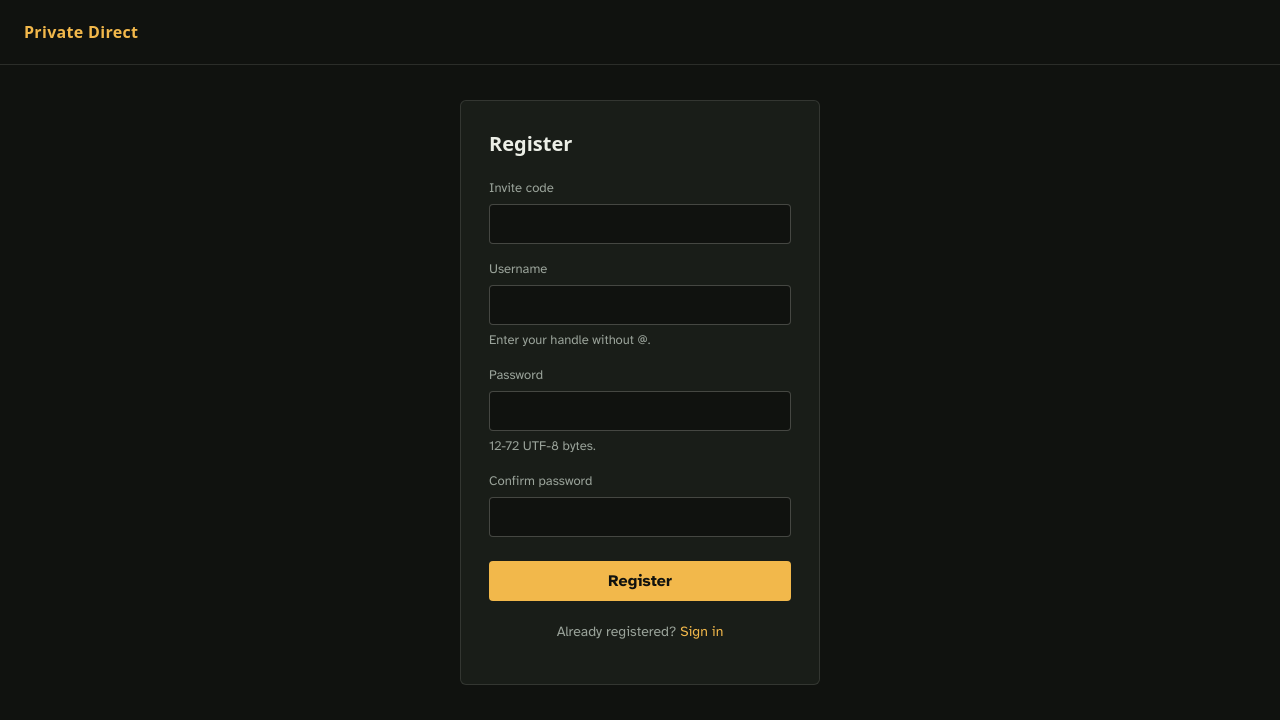
Test: registration flow › blocks invalid local input with field-specific guidance
Type "invite-one" into the field labelled "Invite code" at [640, 224], box [489,204,791,244]
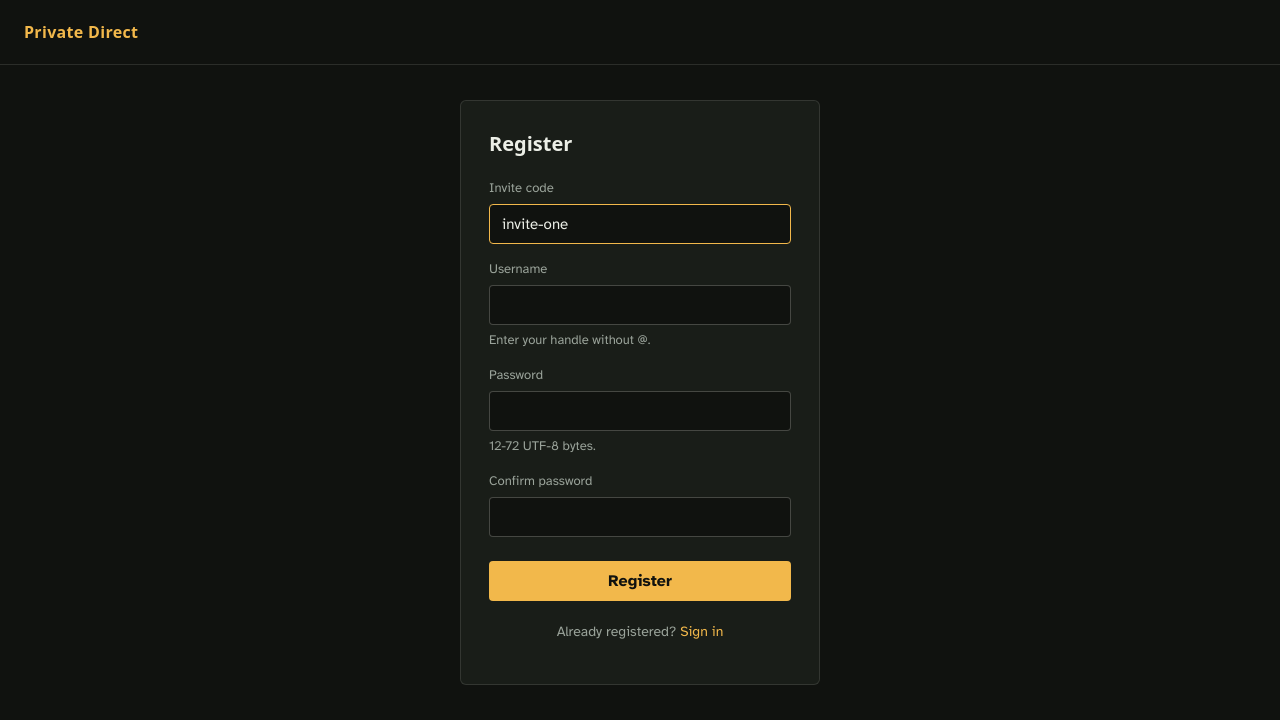
Type "@Al" into the field labelled "Username" at [640, 305], box [489,285,791,325]
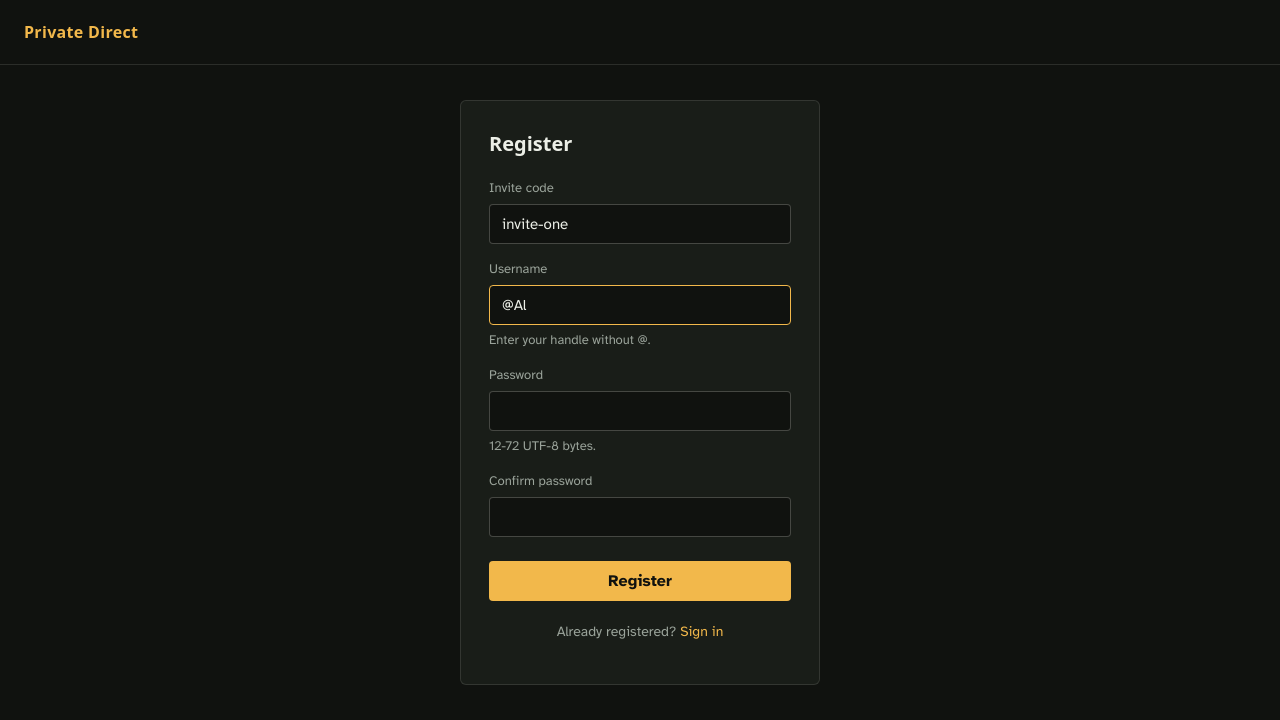
Type "short" into the password field labelled "Password" at [640, 411], box [489,391,791,431]
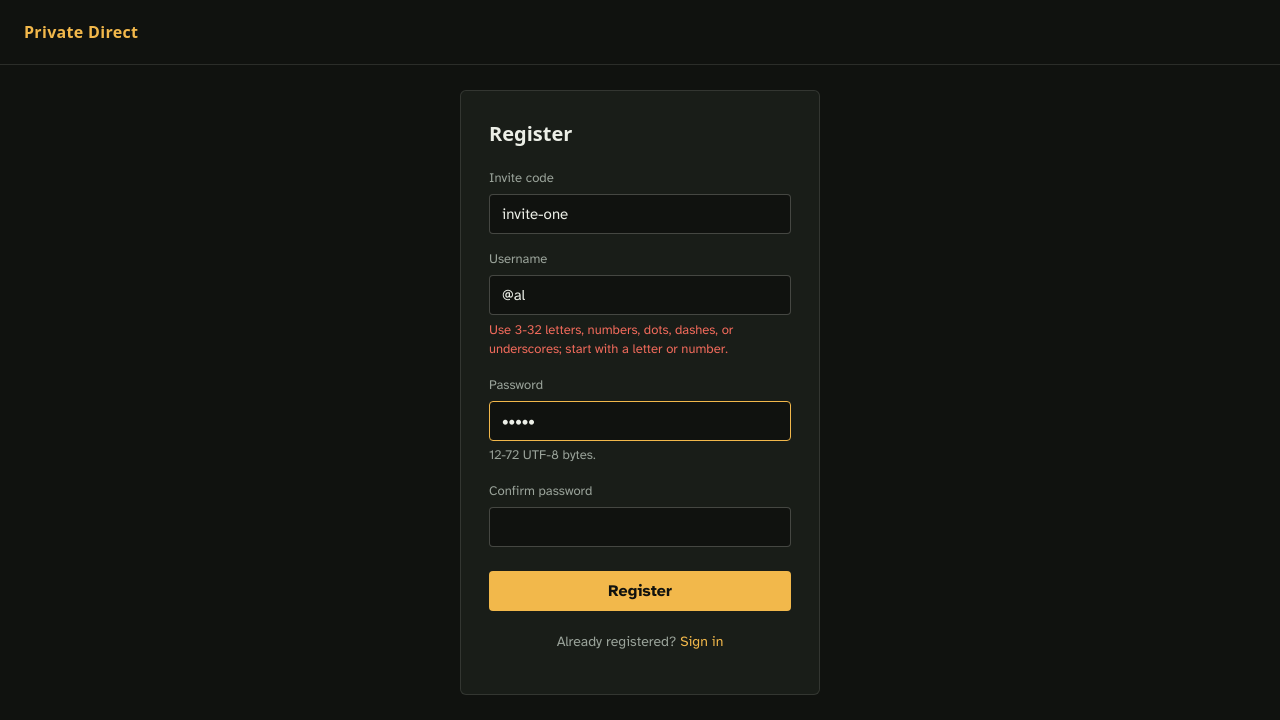
Type "different" into the password field labelled "Confirm password" at [640, 527], box [489,507,791,547]
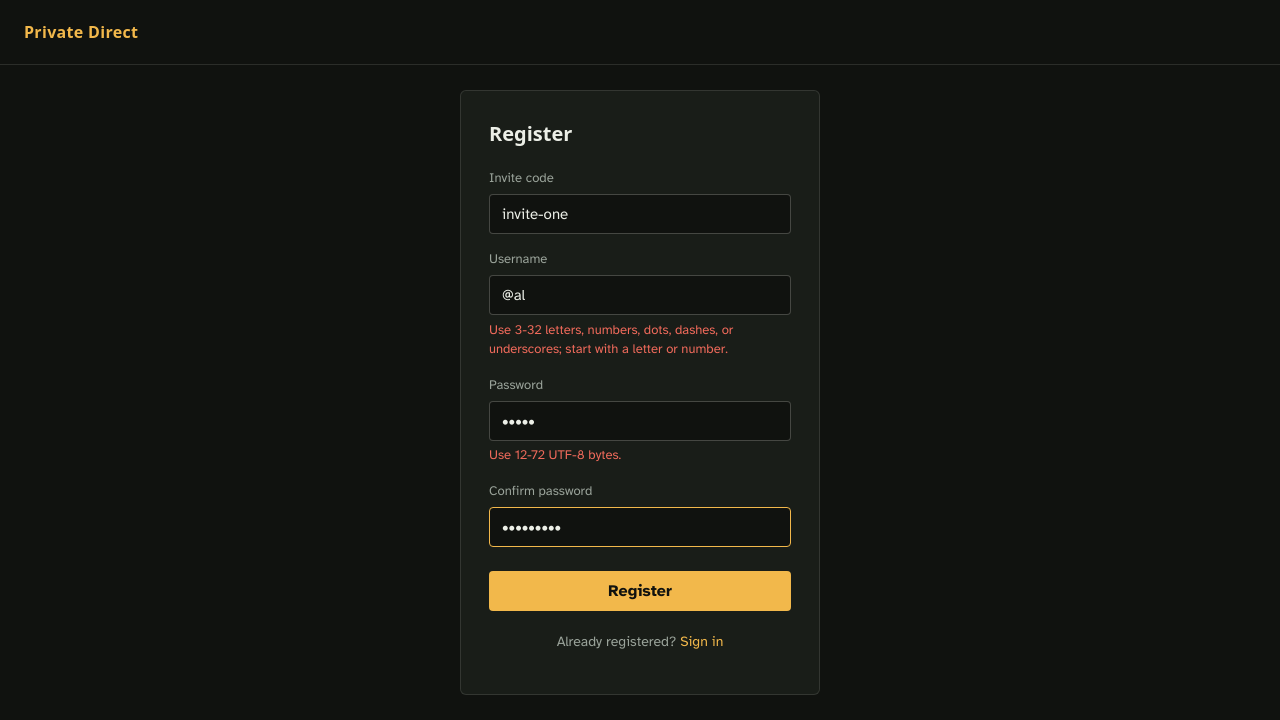
Click the button "Register" at [640, 591], box [489,571,791,611]
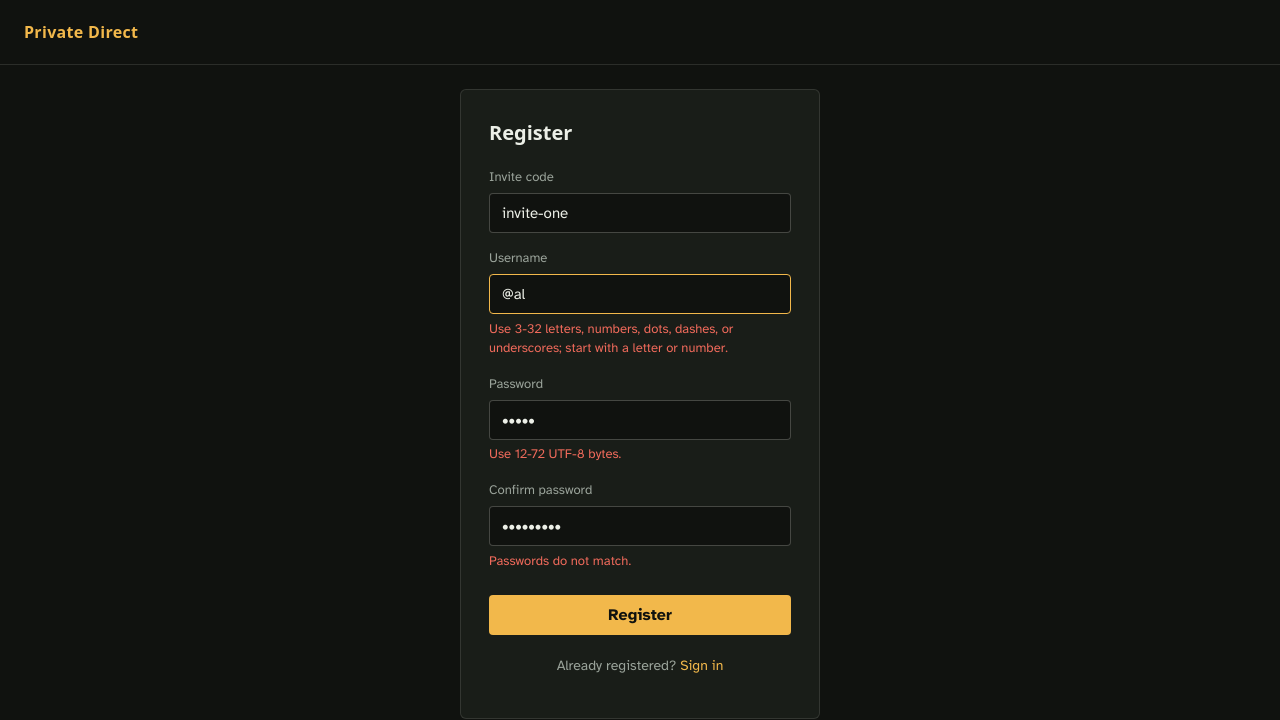
Now the text "Use 3-32 letters, numbers, dots, dashes, or underscores; start with a letter or number." is shown, box [489,321,733,356]
Now the text "Use 12-72 UTF-8 bytes." is shown, box [489,446,621,462]
Now the text "Passwords do not match." is shown, box [489,553,631,569]
